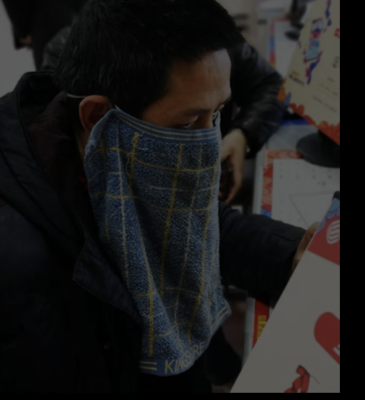with_mask: (110, 93, 232, 218)
